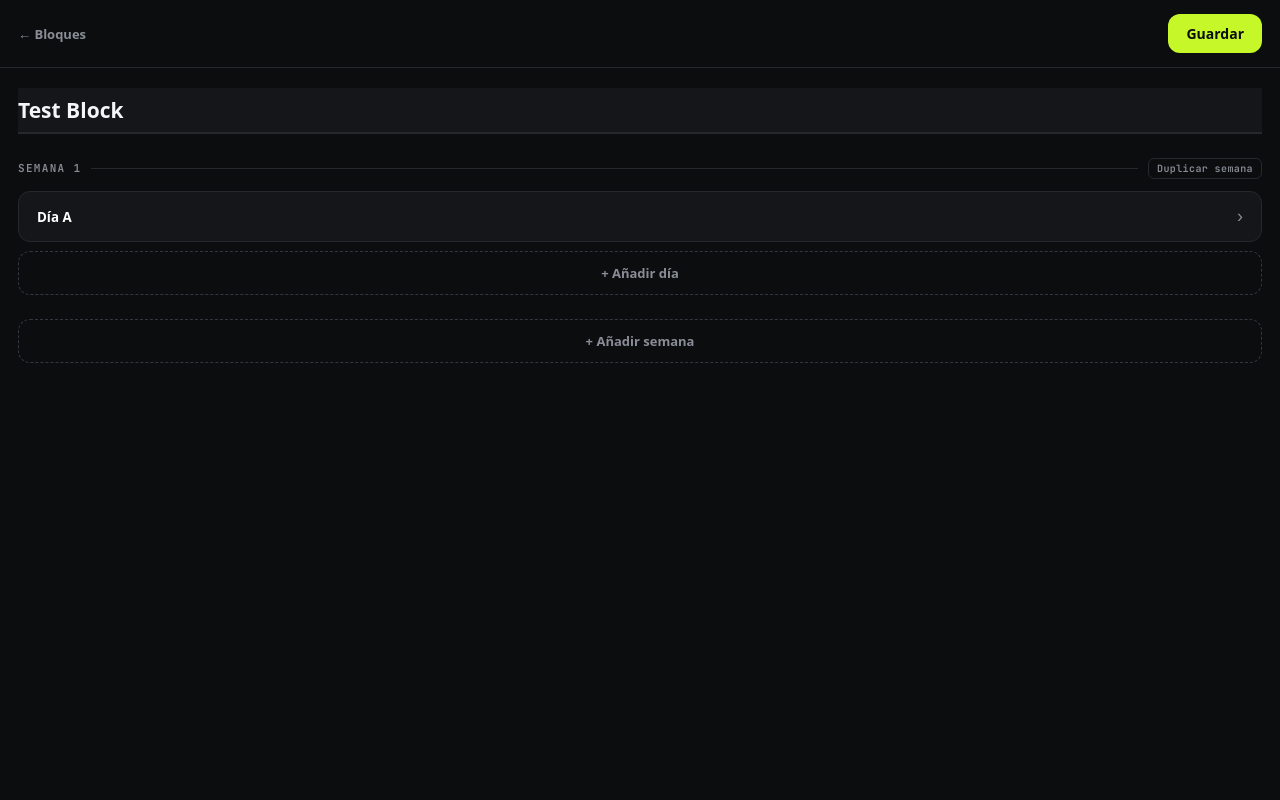
Test: BlockEditorPage › shows editable weight input when editing a day with set groups
This screenshot has width=1280, height=800.
What coordinates should you click on to do the following:
click the text "Día A"
I would click on:
 (54, 216)
Its box is [37,208,72,226].
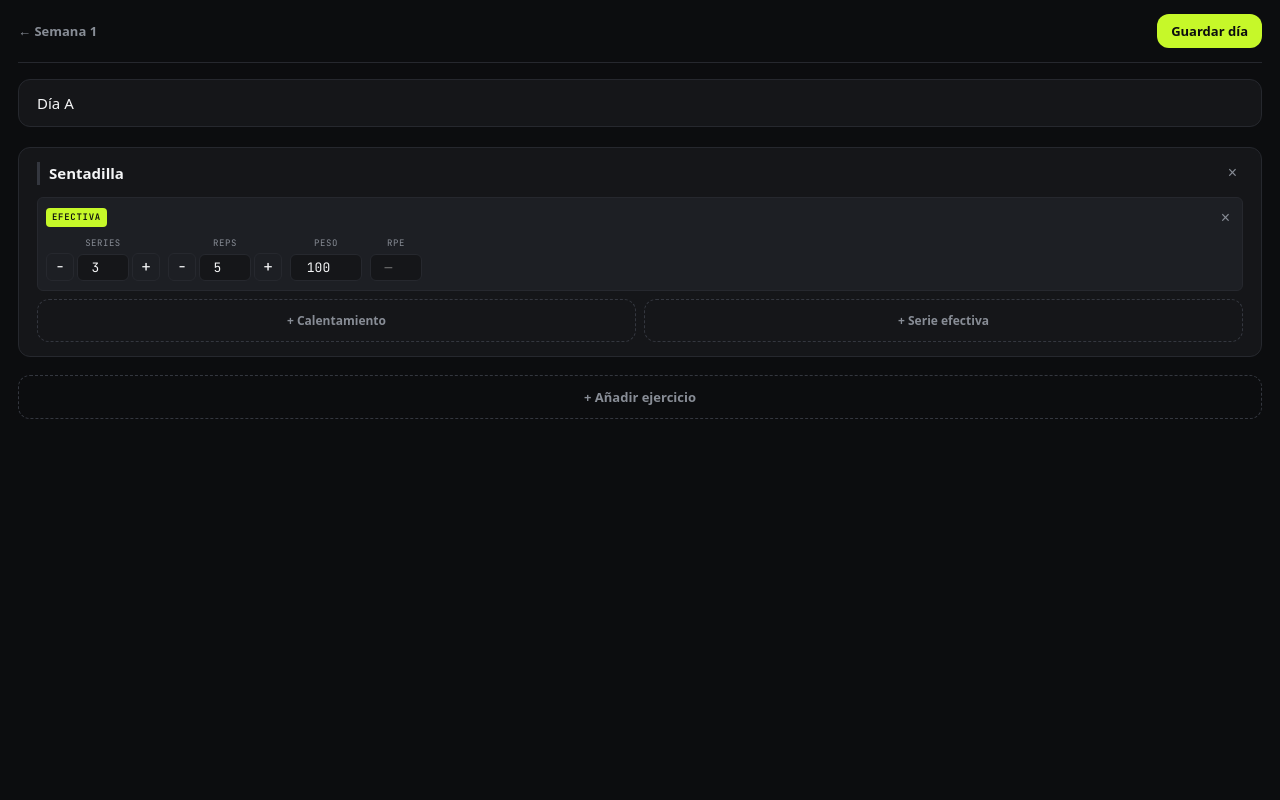
Check: the number field named "Peso" holds "100", box [290,254,362,280]
